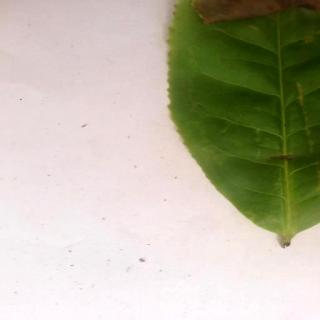Brown Blight: (166, 1, 320, 250)
